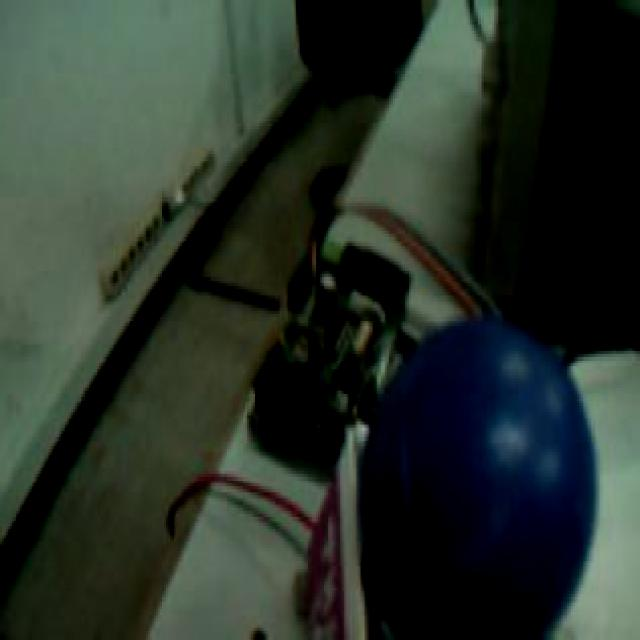BallPurple: (362, 316, 596, 640)
